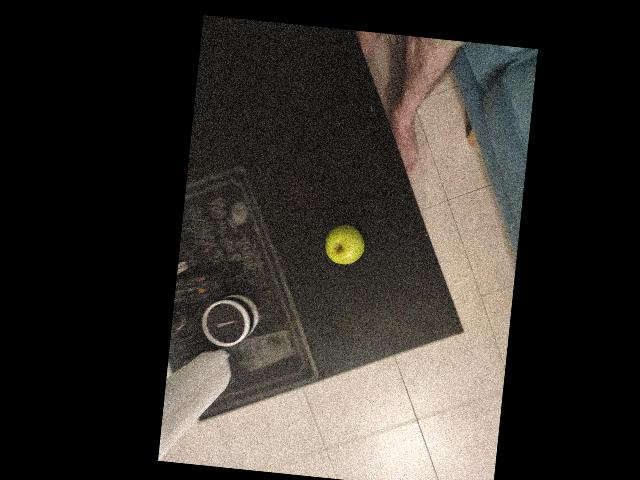apple: (380, 290, 430, 340)
